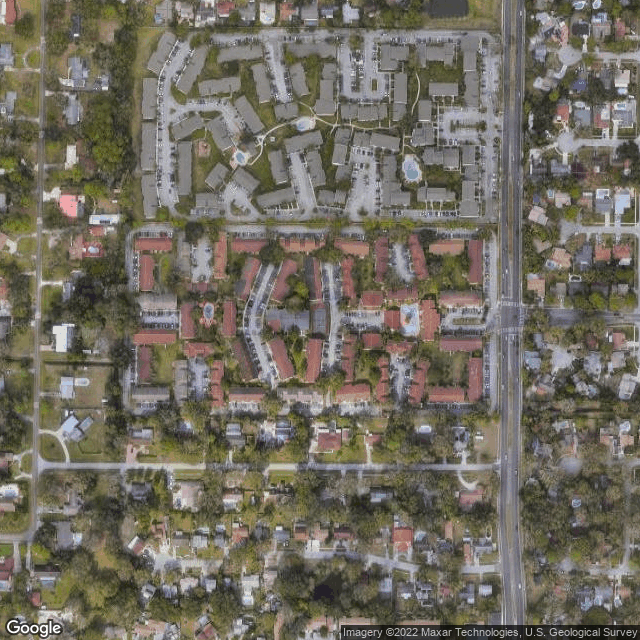Court: (314, 309, 326, 332)
